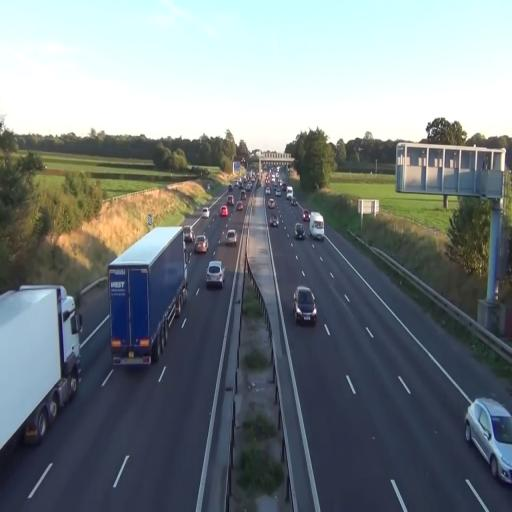vehicle: (0, 286, 82, 454), (108, 223, 188, 367), (464, 396, 512, 486), (292, 286, 318, 325), (206, 261, 224, 289), (310, 212, 324, 239), (194, 234, 208, 254), (224, 227, 238, 245), (294, 222, 306, 240)
